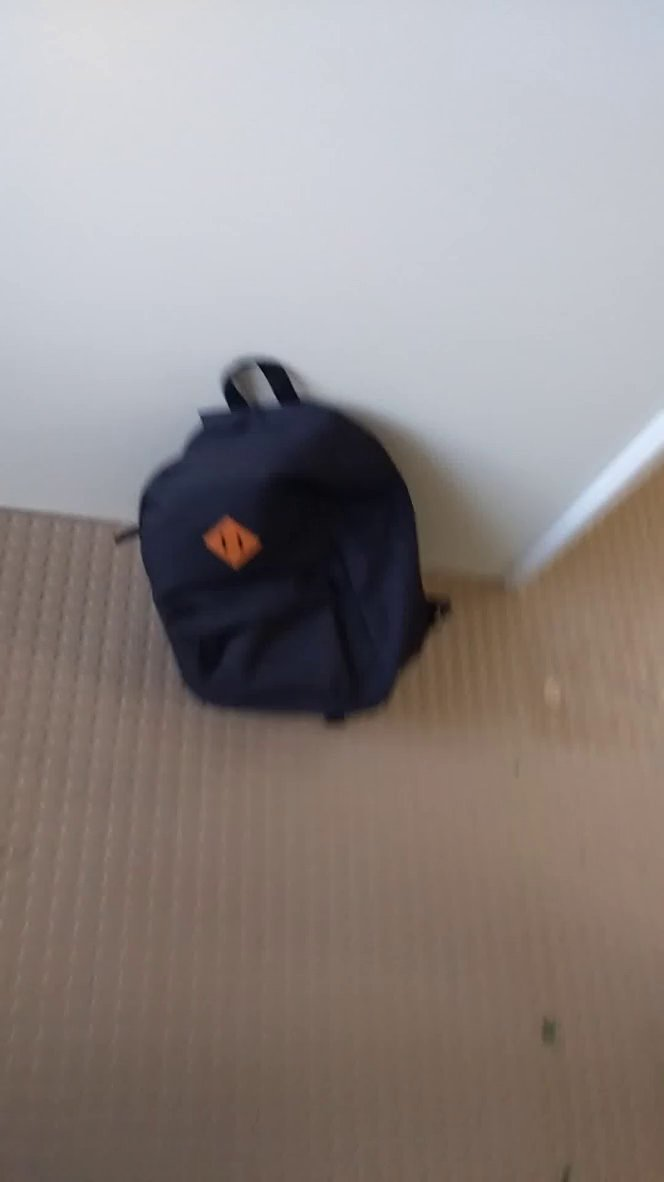bag: (101, 342, 474, 739)
